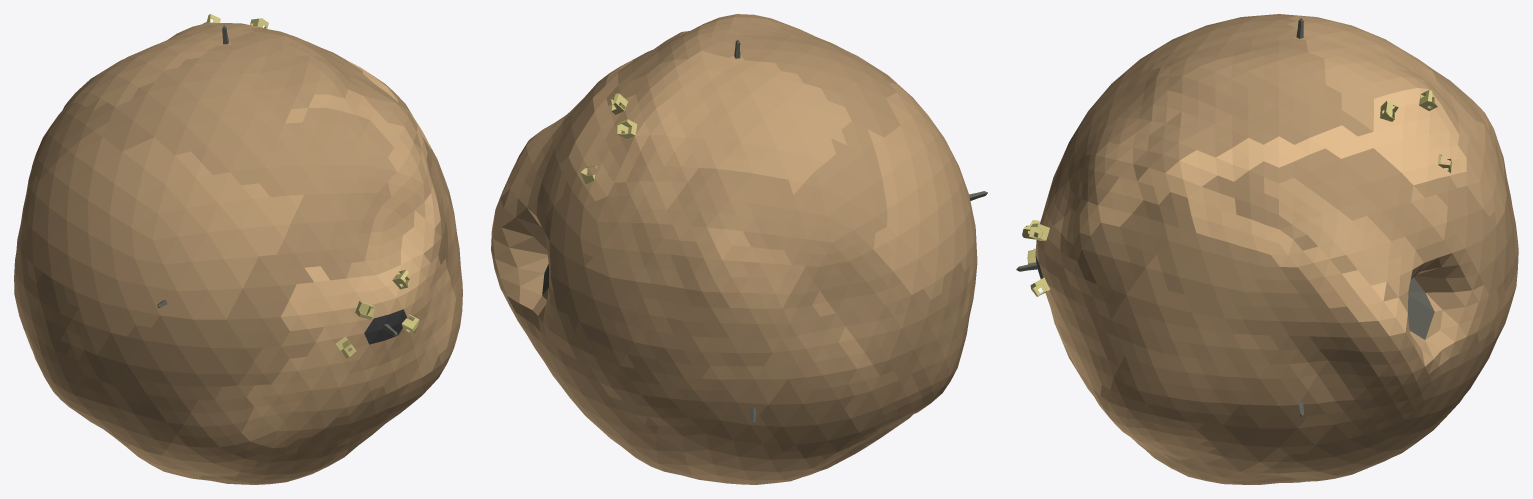
The model's file is Planet2.fbx.
3 renders of one model, left to right at view 1: azimuth 30°, elevation 25°; view 2: azimuth 150°, elevation 25°; view 3: azimuth 270°, elevation 25°, orthographic. The views are drawn at different scales.
Visible parts, largest first — view 1: Icosphere.002; view 2: Icosphere.002; view 3: Icosphere.002.
Boxes of the visible parts, x1=… form: Icosphere.002: x1=14, y1=14, x2=462, y2=484; Icosphere.002: x1=491, y1=14, x2=987, y2=484; Icosphere.002: x1=1016, y1=14, x2=1518, y2=484.
Bounding box in the file's own units: 205 × 209 × 213.
